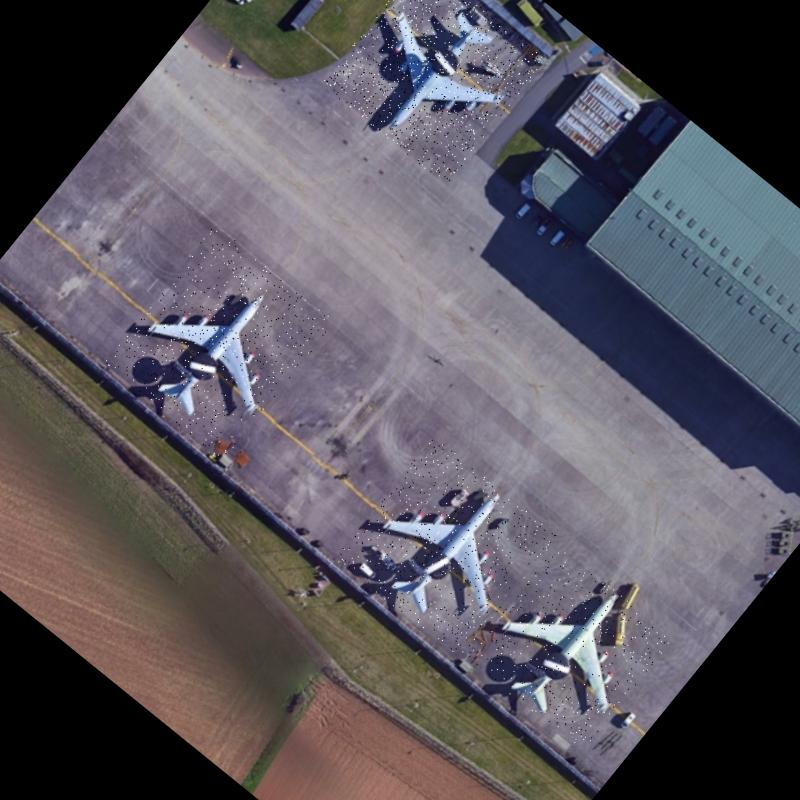A7: (102, 224, 335, 461), (334, 436, 558, 659), (465, 544, 673, 752), (320, 0, 547, 185)
